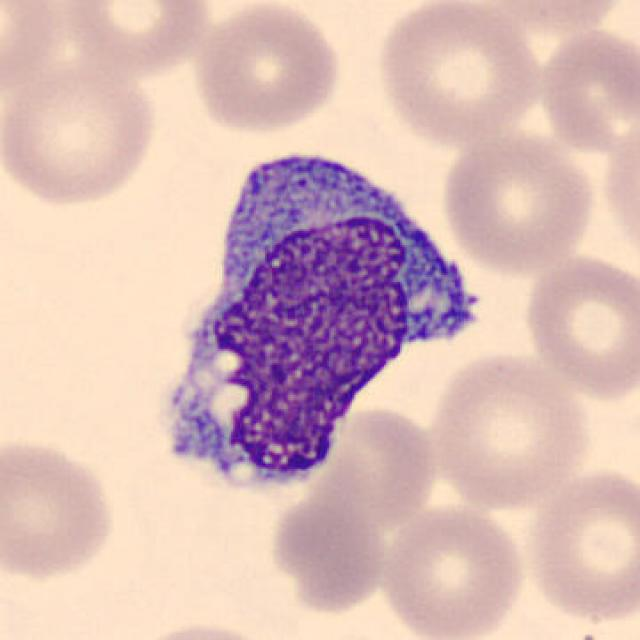Monocyte: (146, 125, 498, 504)
RBC: (423, 349, 594, 511), (370, 0, 546, 148), (0, 56, 162, 212), (437, 127, 599, 277), (375, 499, 530, 640), (187, 0, 345, 138), (523, 462, 638, 626), (0, 432, 121, 585), (519, 250, 638, 402), (300, 402, 442, 524), (534, 21, 638, 159), (55, 0, 215, 78), (478, 0, 633, 37), (1, 2, 116, 44), (121, 617, 286, 640)
